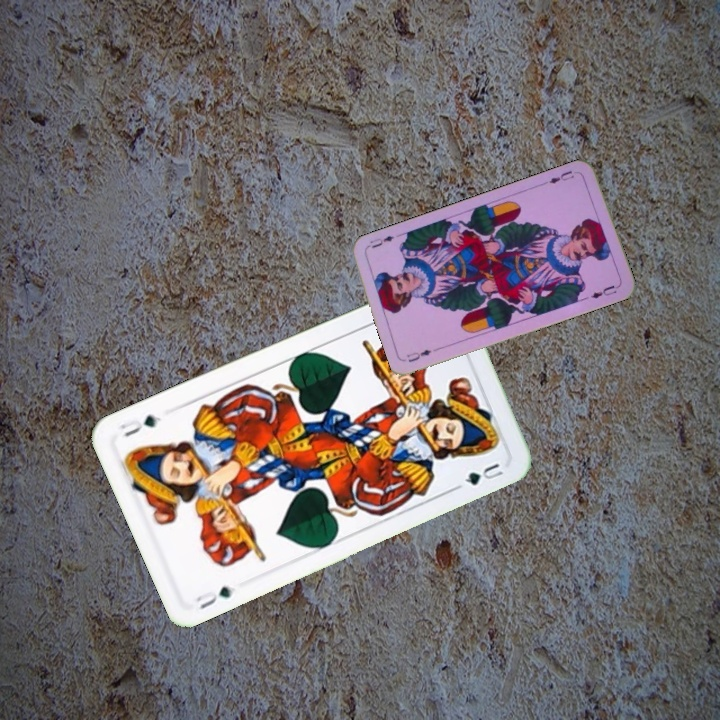EU: (545, 166, 580, 186), (403, 345, 434, 365)
GU: (191, 582, 238, 612)
